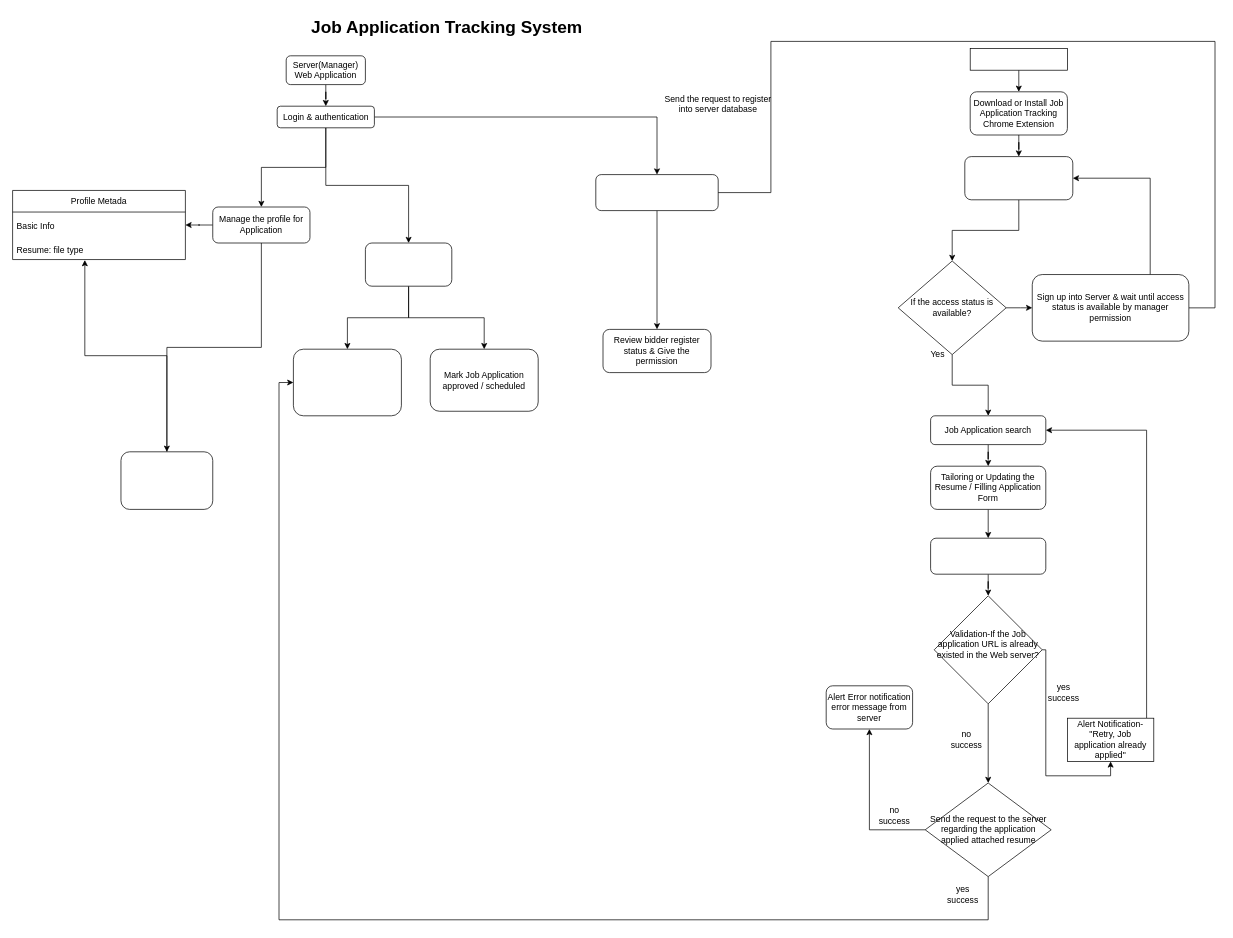
Some shapes in this 1233 by 938 pixel diagram are drawn without their labels. Here are the shapes that lost their labels. From the top down, the centre of each, then its label:
At [1018,59]: "Client(Bidder)".
At [656,192]: "Manage the Bidder".
At [1018,178]: "Verify the access status for tracking".
At [408,264]: "Job Application Thread Server".
At [347,382]: "Add the Job Application request handler".
At [166,480]: "Add, Review, Edit or Delete profile".
At [988,555]: "Application Submit".
